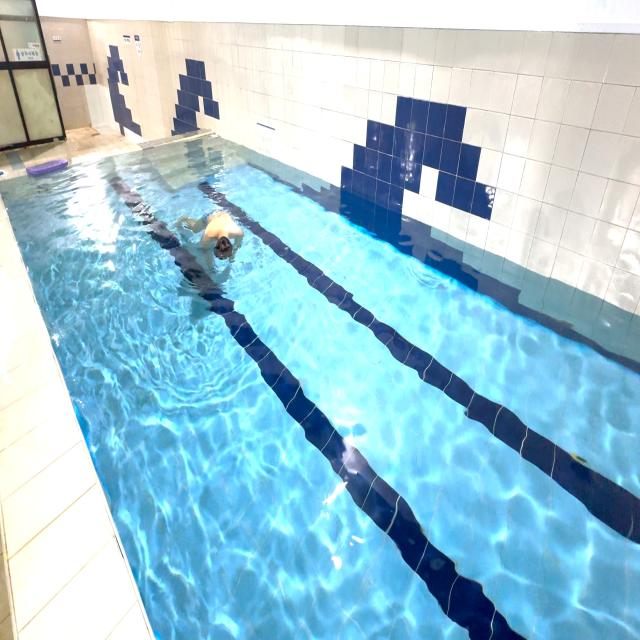Drowning: (174, 180, 252, 289)
